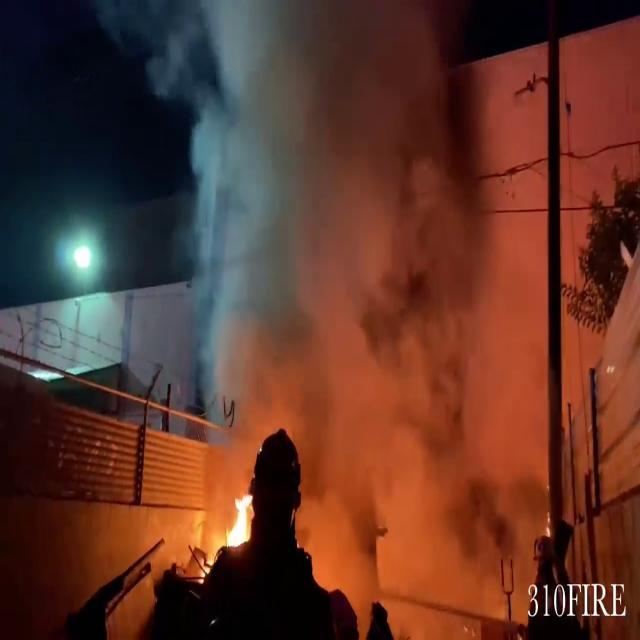Fire: (216, 475, 257, 562)
Smoke: (149, 0, 549, 598)
